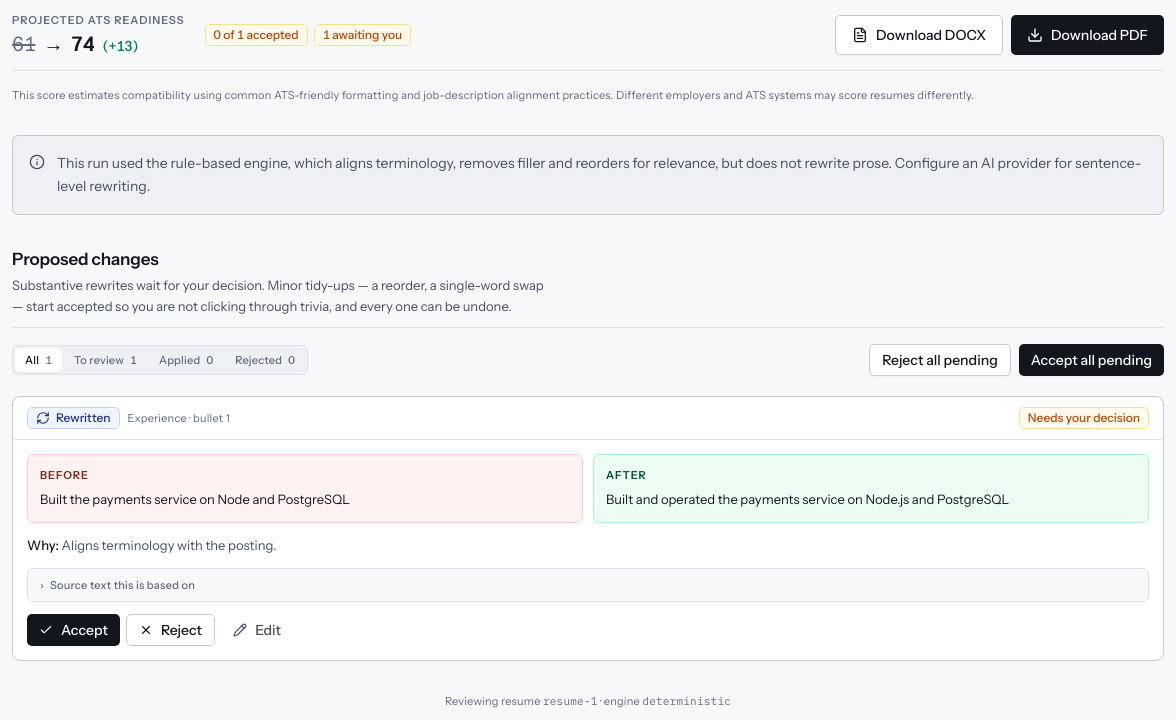
Test: editing a change › pre-fills the editor with the proposal, not an empty box
Click the button "Edit" at (257, 630), box [221,614,293,646]
(page scrolled)
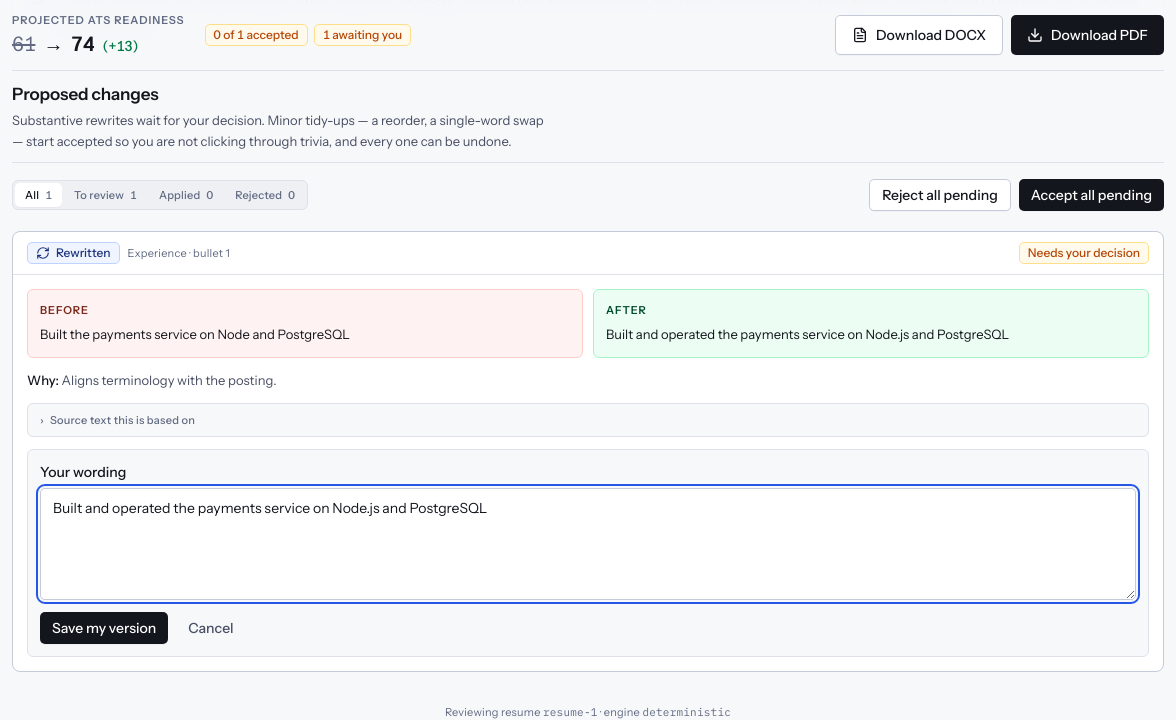
Expected: the text box holds "Built and operated the payments service on Node.js and PostgreSQL", [40,488,1136,600]
